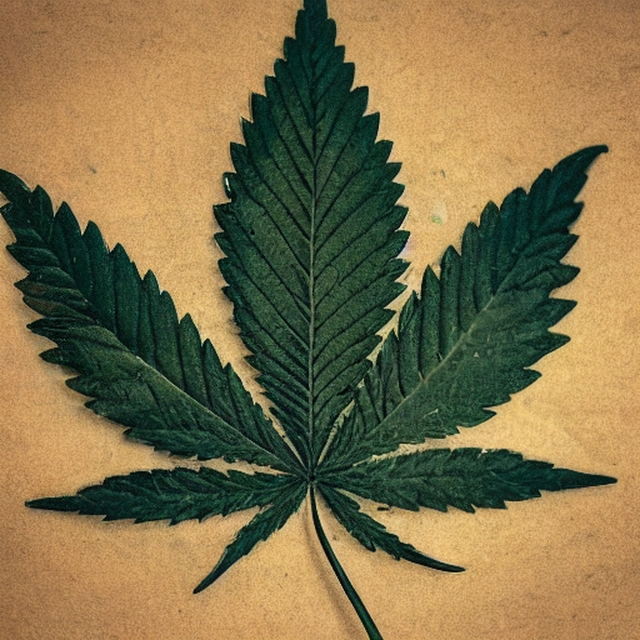Marijuana Leaf: (0, 0, 618, 639)
